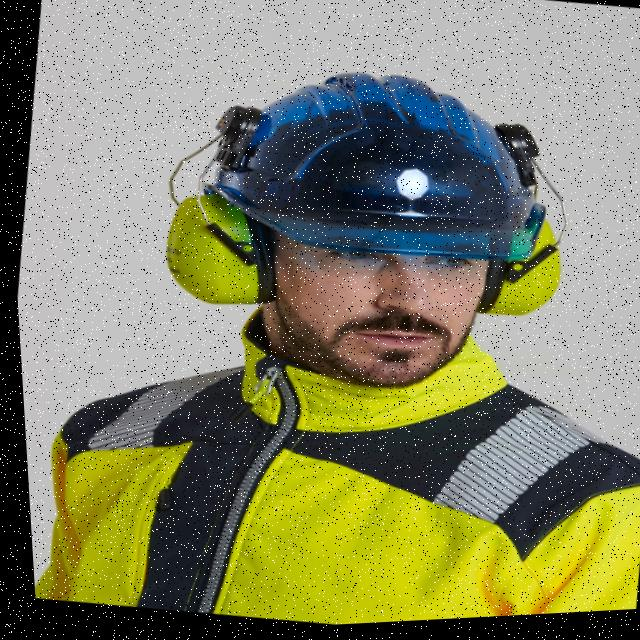illegal_helmet: (125, 30, 608, 435)
